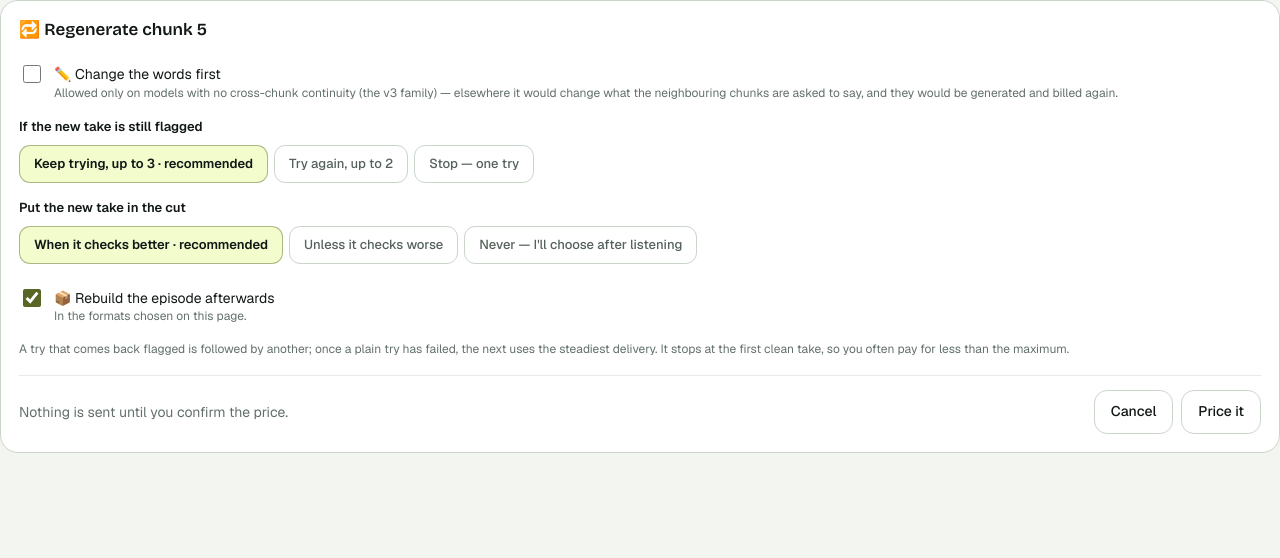
Test: regenerating is priced before it is paid for › will not spend where a request's outcome is unknown
The width and height of the screenshot is (1280, 558).
Click the button "Price it" at (1221, 412), box x1=1181 y1=390 x2=1261 y2=434
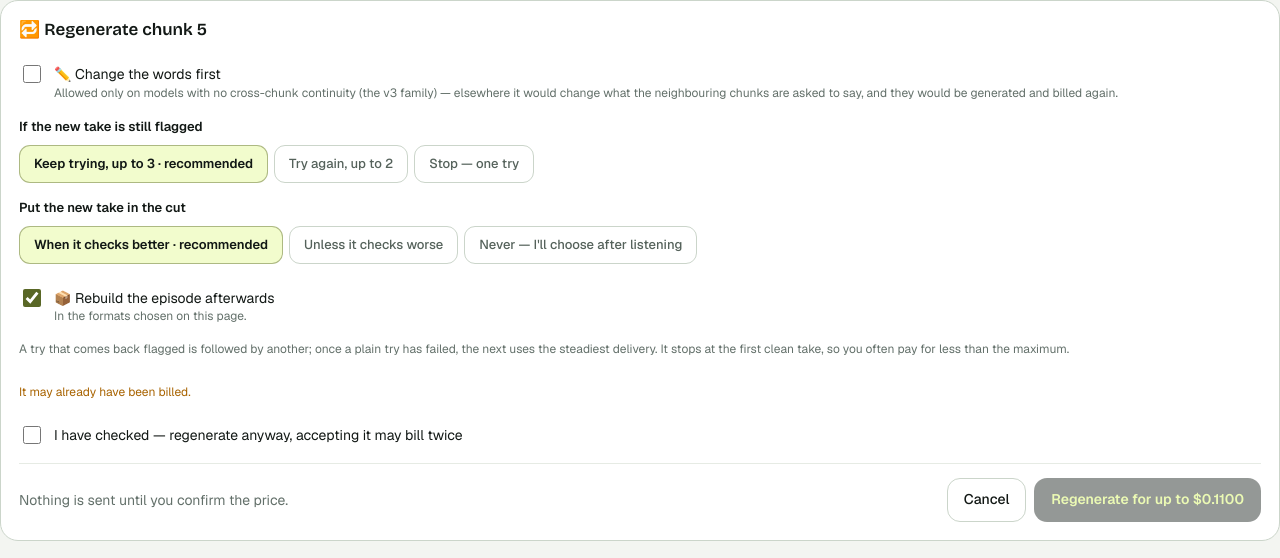
Expected: the text "may already have been billed" is shown, x1=19 y1=384 x2=191 y2=400
Expected: the button "Regenerate for up to $0.1100" is disabled, x1=1034 y1=478 x2=1261 y2=522
